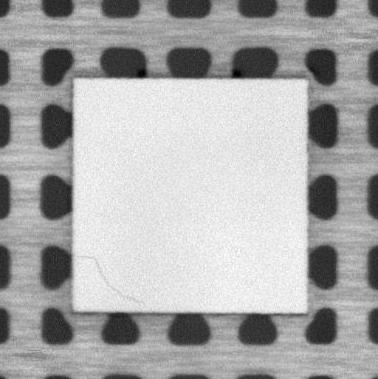DIE_CRACK: (78, 254, 144, 308)
